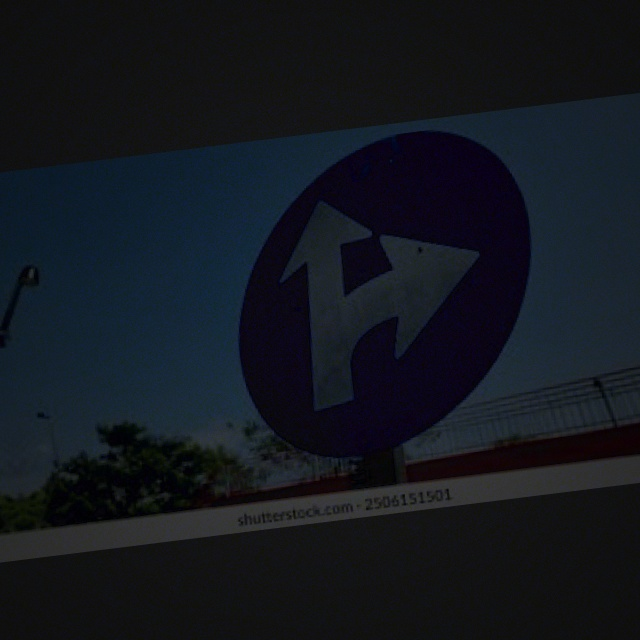Compulsory_Ahead_or_Turn_Right: (222, 132, 546, 474)
